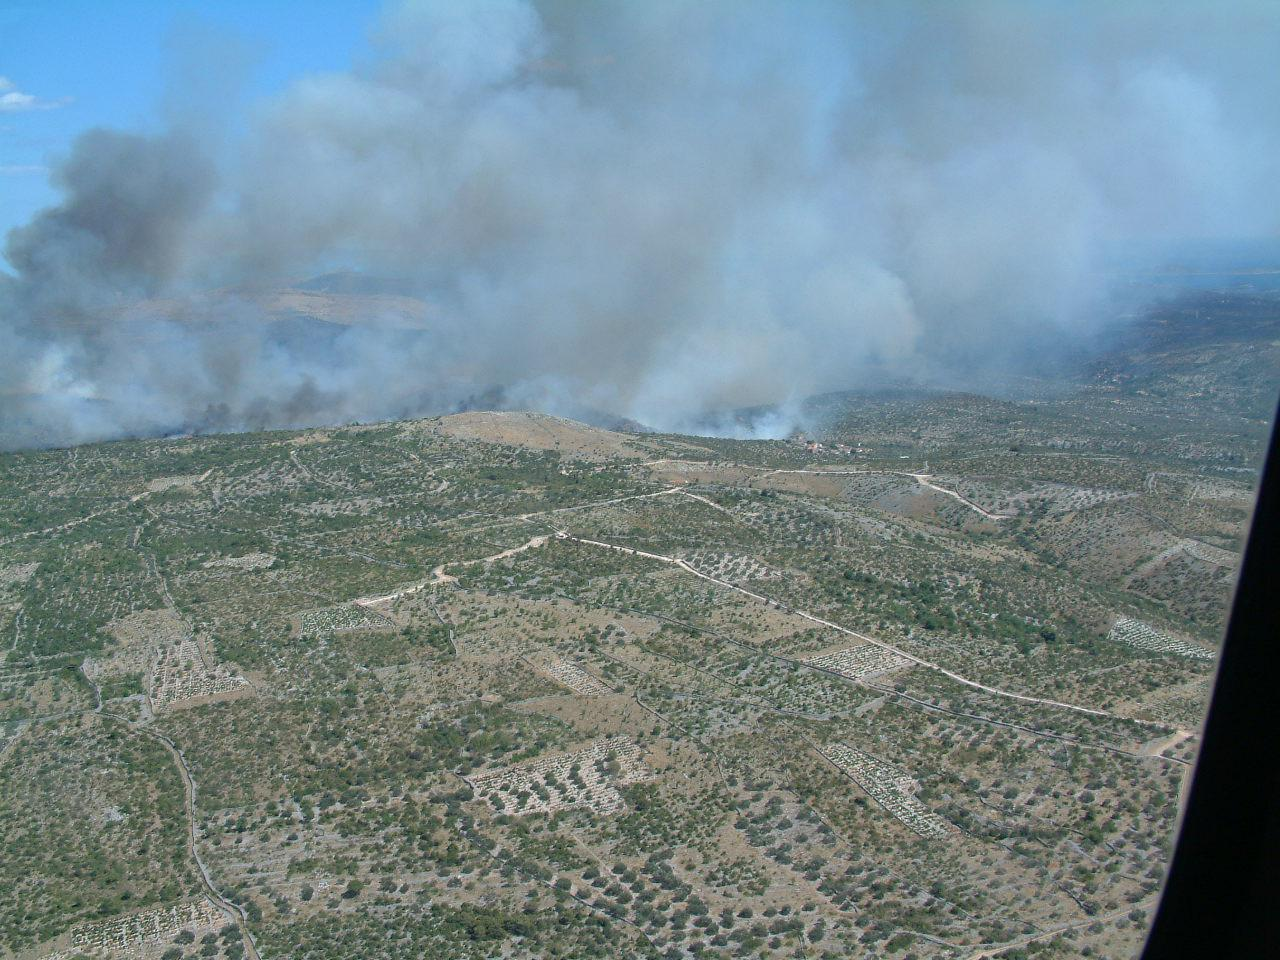Smoke: (7, 2, 1260, 481)
